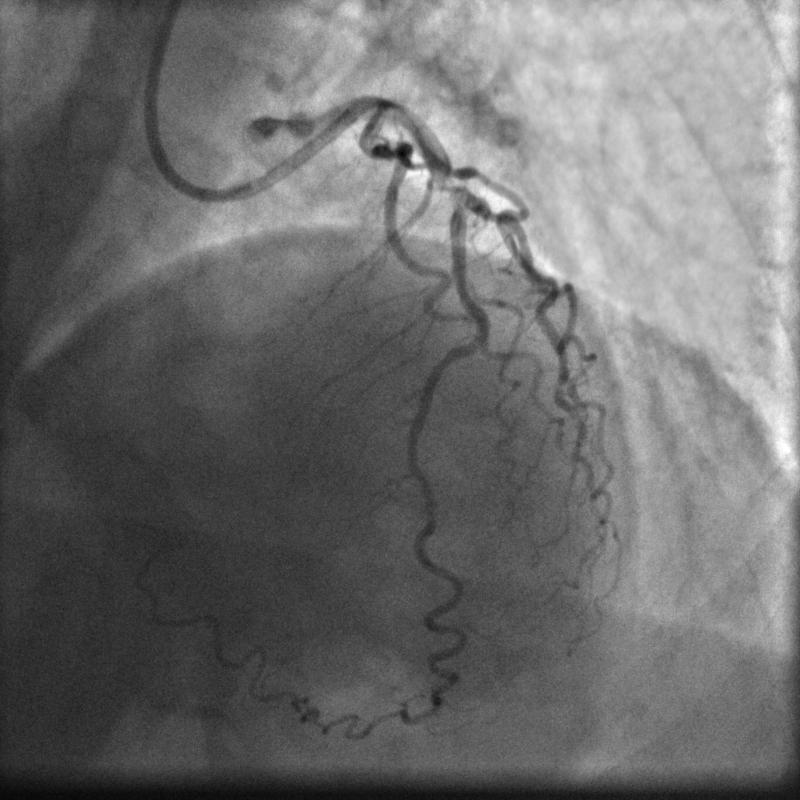Stenosis: (428, 172, 458, 194)
